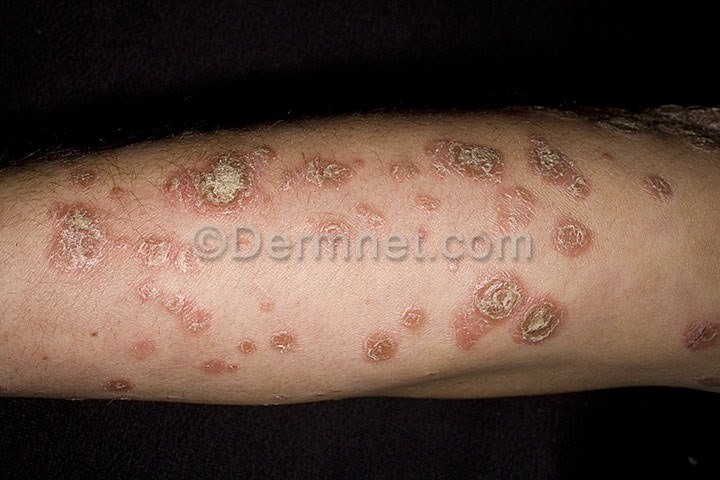Psoriasis: (162, 145, 367, 215), (458, 270, 580, 357), (50, 159, 132, 286), (127, 232, 212, 336), (518, 130, 600, 206), (414, 128, 512, 188), (352, 301, 438, 367), (206, 327, 307, 377), (554, 210, 612, 270), (666, 308, 720, 359), (647, 164, 674, 208)
